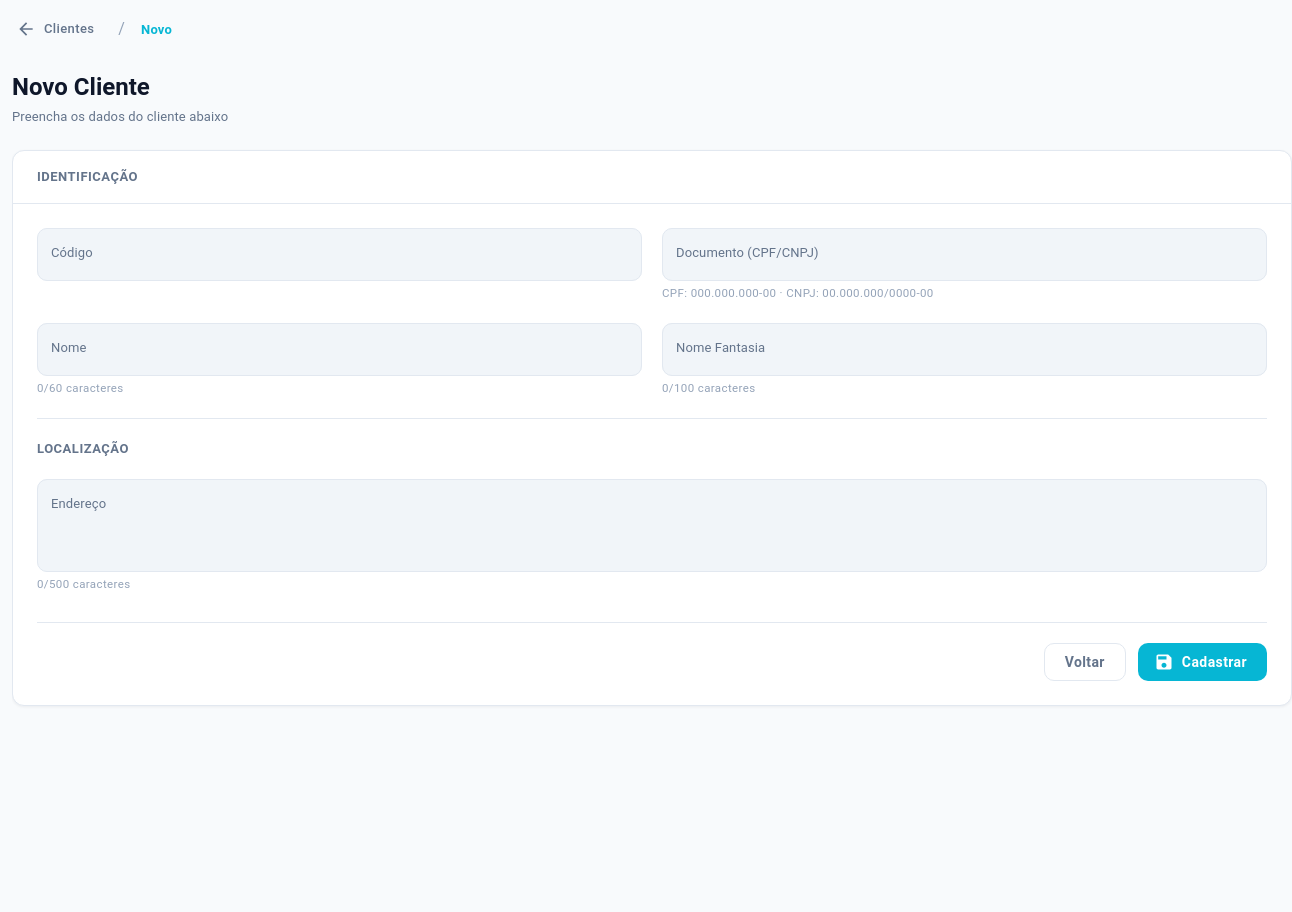
Test: ClienteForm validation › shows document error for invalid CPF length
Type "123" into the field named "documento" at [964, 254], box [662, 228, 1267, 281]
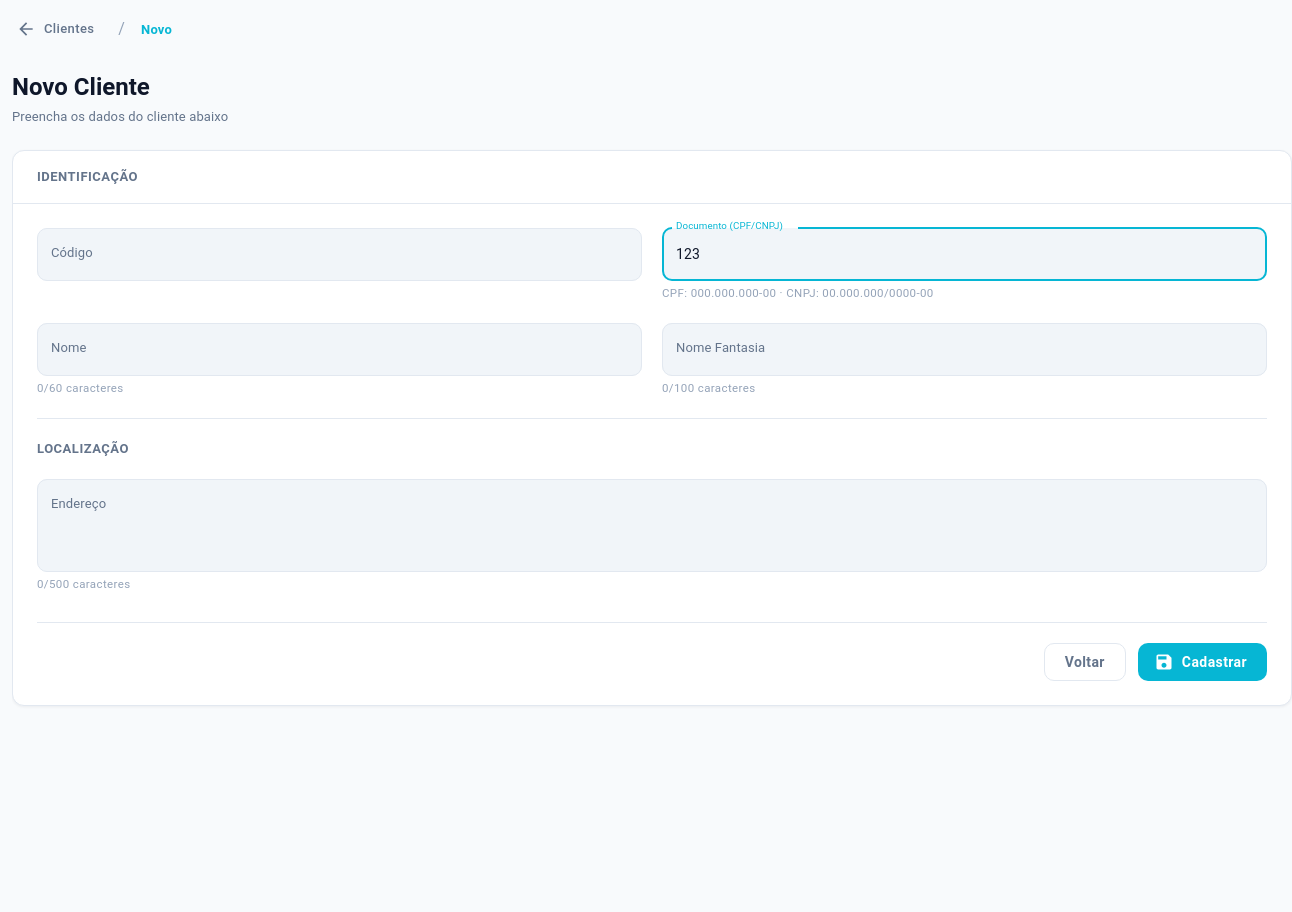
Click the button "Cadastrar" at [1202, 662], box [1138, 643, 1267, 681]
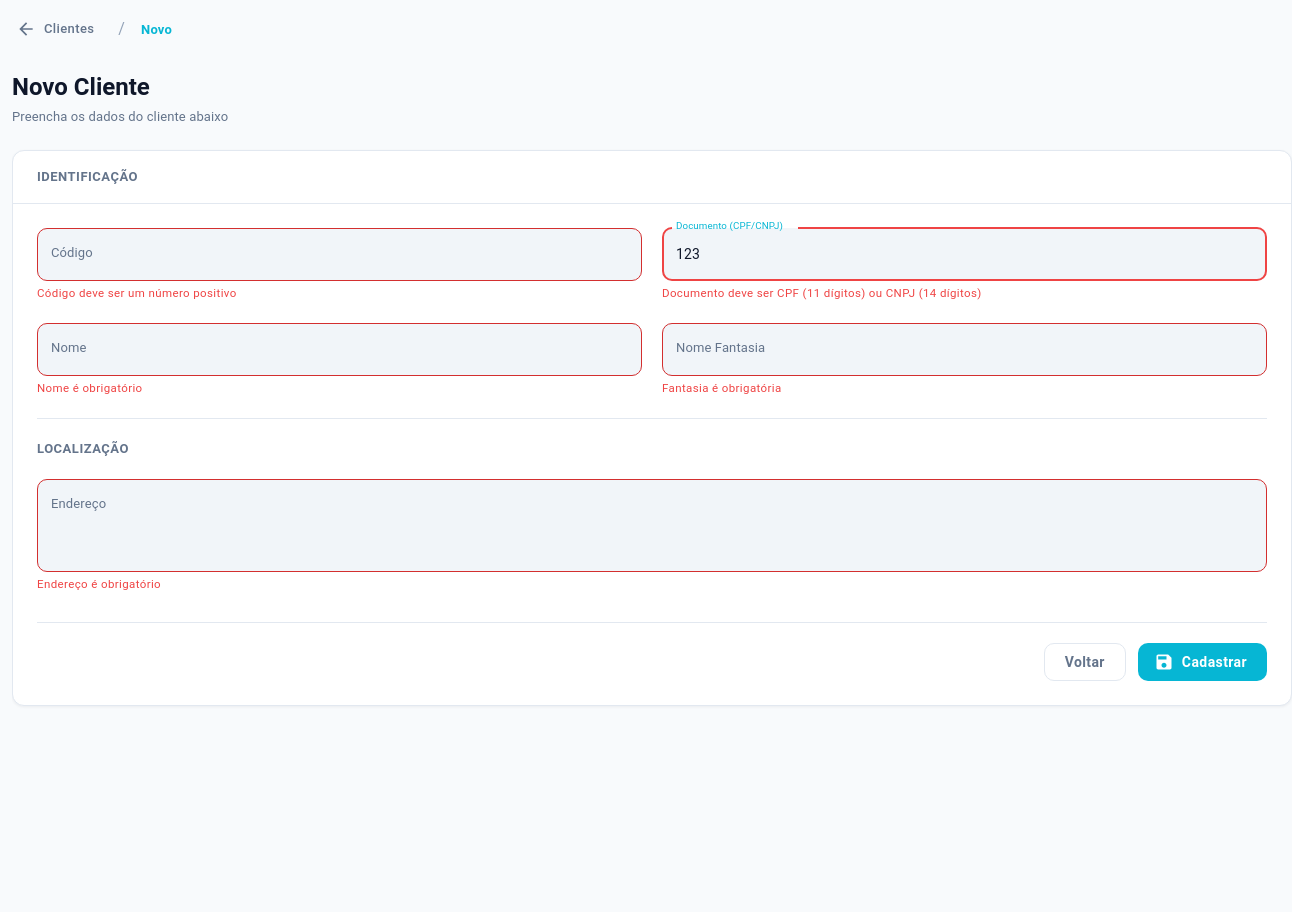
Now the text "Documento deve ser CPF (11 dígitos) ou CNPJ (14 dígitos)" is shown, box [662, 286, 982, 300]
